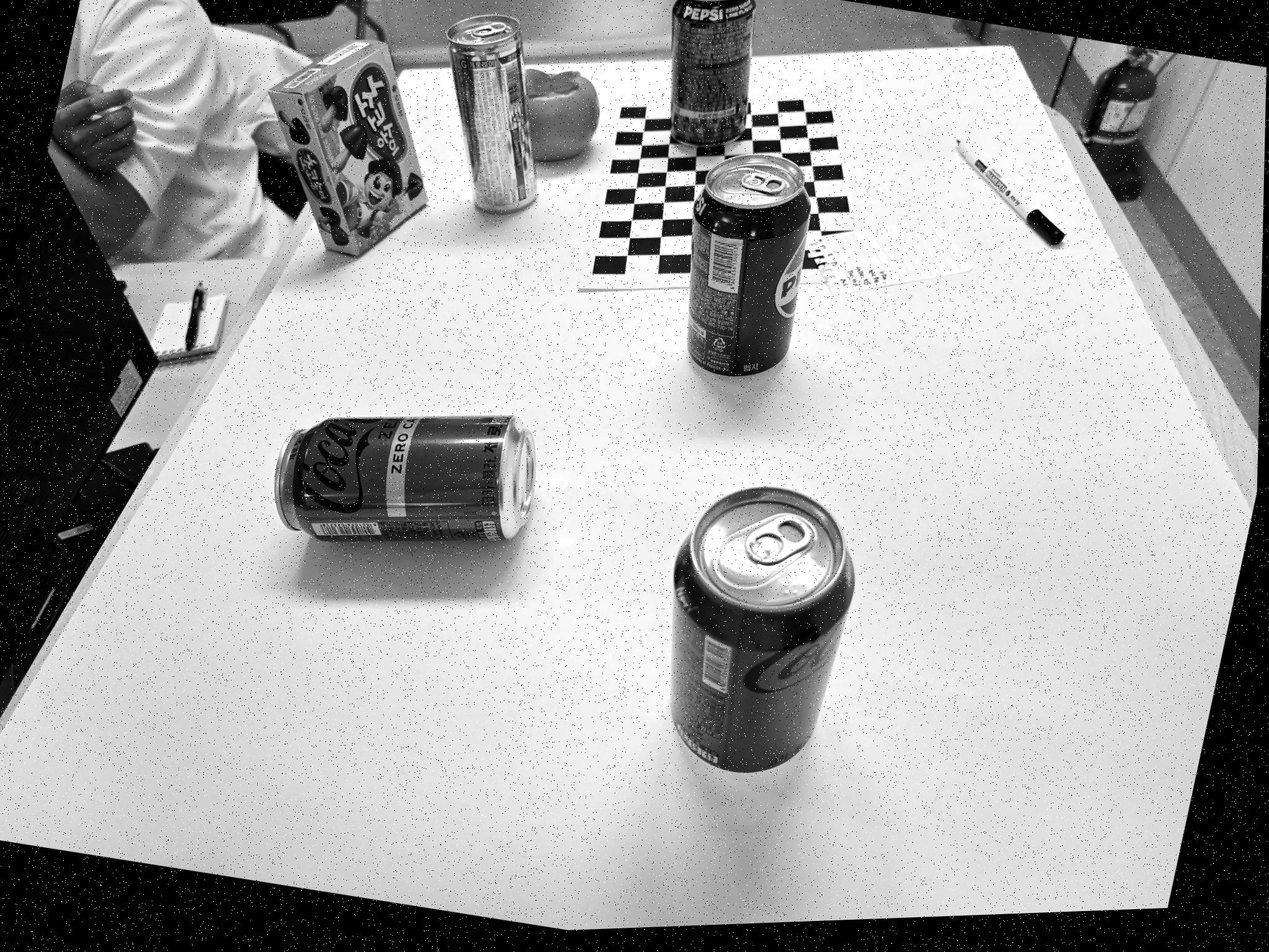can_coke_decaf: (270, 417, 539, 541)
can_coke_zero: (663, 487, 860, 776)
can_pepsi: (680, 151, 812, 372)
